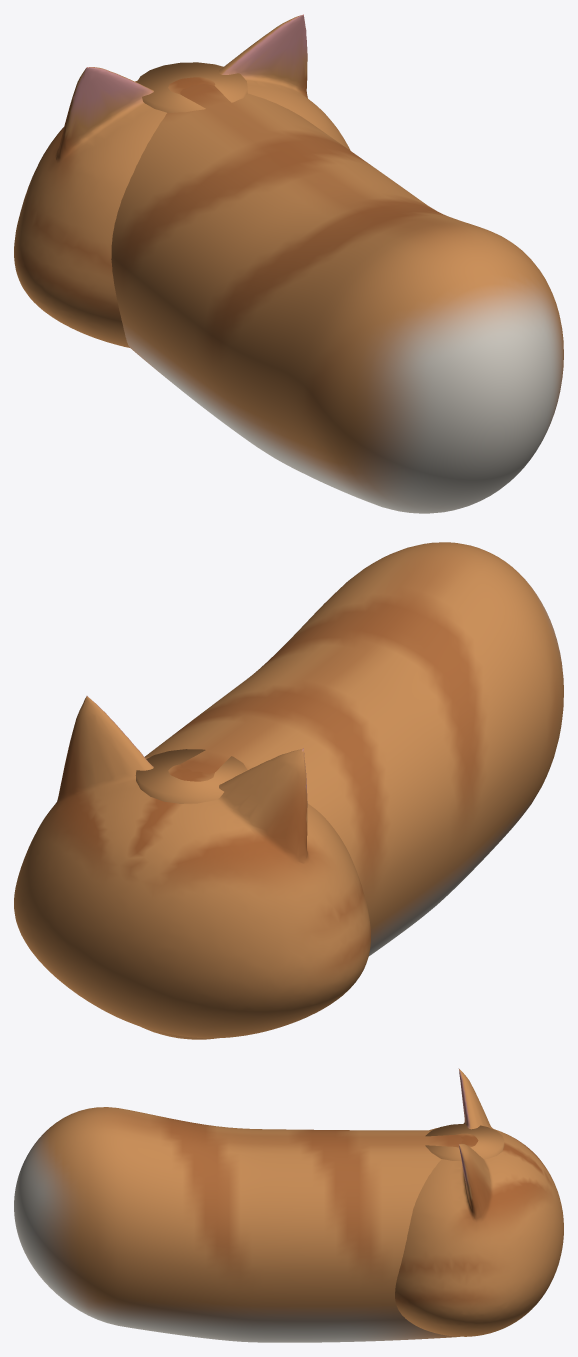
File: cat.glb
3 views of the same model, one above another, from view 1: azimuth 30°, elevation 25°; view 2: azimuth 150°, elevation 25°; view 3: azimuth 270°, elevation 25° (orthographic). The views are drawn at different scales.
Visible parts, largest first — view 1: catBody, catHead, catLeg; view 2: catBody, catHead, catLeg; view 3: catBody, catHead, catLeg.
Boxes of the visible parts, x1=… form: catBody: x1=111, y1=84, x2=563, y2=513; catHead: x1=14, y1=14, x2=350, y2=347; catLeg: x1=136, y1=62, x2=247, y2=112; catBody: x1=141, y1=542, x2=563, y2=1039; catHead: x1=14, y1=696, x2=370, y2=1038; catLeg: x1=135, y1=749, x2=247, y2=803; catBody: x1=14, y1=1107, x2=463, y2=1342; catHead: x1=395, y1=1068, x2=563, y2=1336; catLeg: x1=425, y1=1123, x2=504, y2=1160.
Size of the model in its own units: 0.1552 by 0.1427 by 0.3127.
